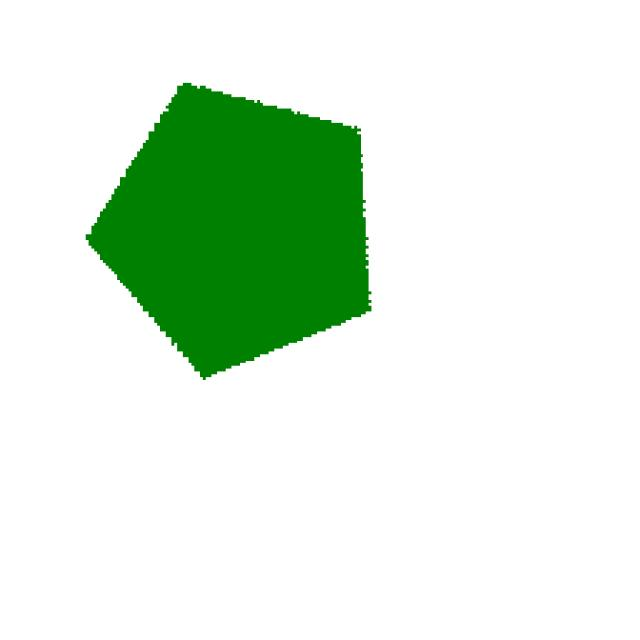Pentagon: (56, 80, 410, 424)
